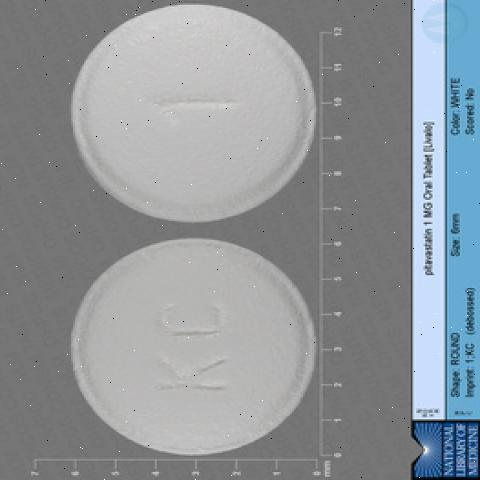Pill: (15, 224, 322, 462), (32, 0, 326, 243)
